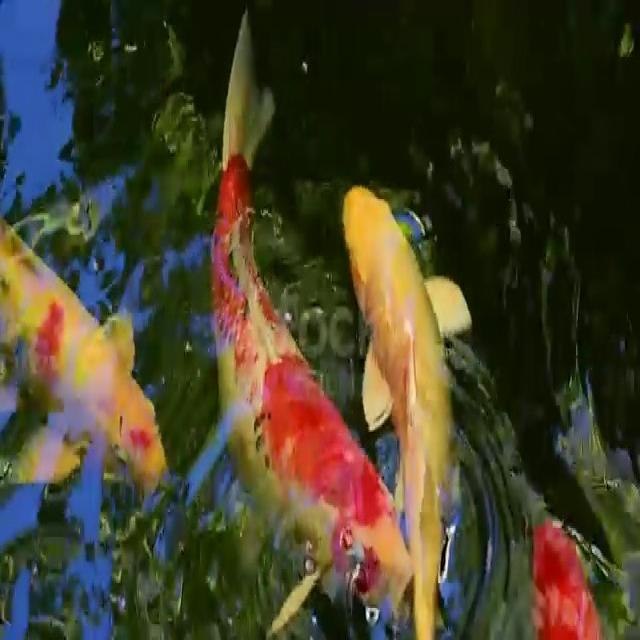fish: (194, 0, 411, 635), (342, 175, 470, 640), (0, 200, 177, 523), (528, 498, 602, 640)
